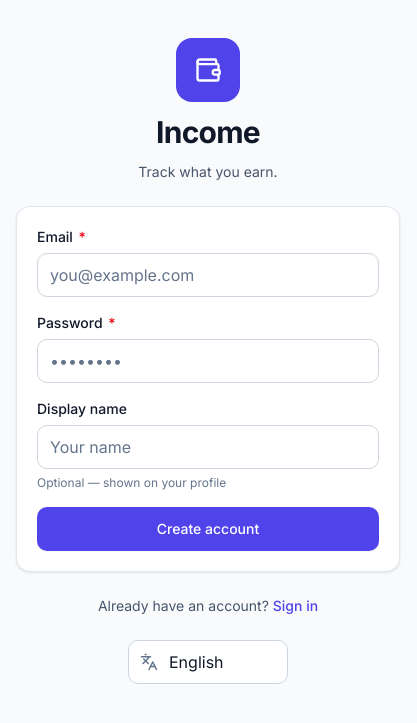
SignUpPage › validates email and password
In the field labelled "Email *": x=208, y=275 [37,253,379,297], type "bad"
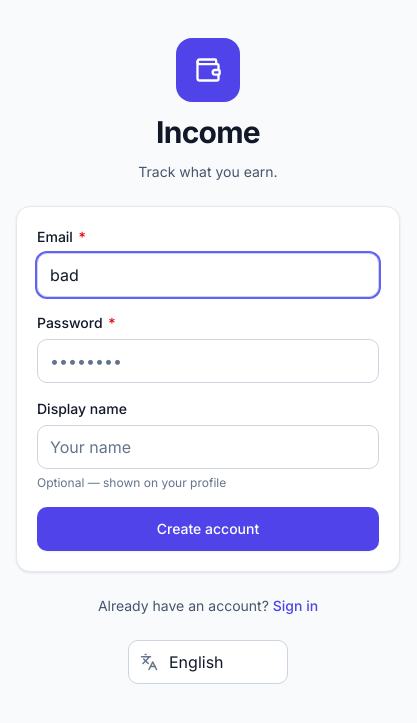
In the password field labelled "Password *": x=208, y=361 [37,339,379,383], type "123"
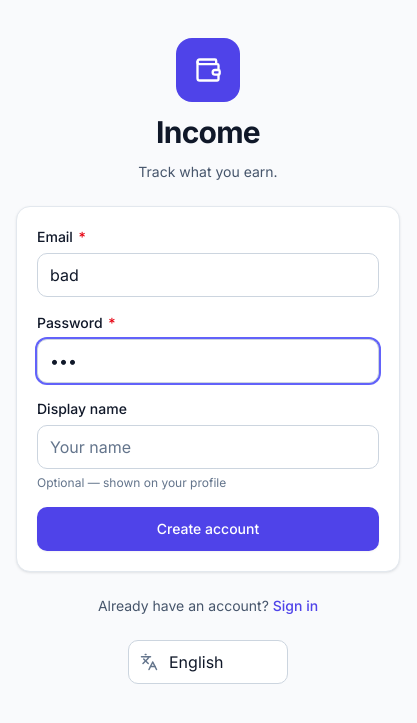
Click the button "Create account": x=208, y=529 [37,507,379,551]
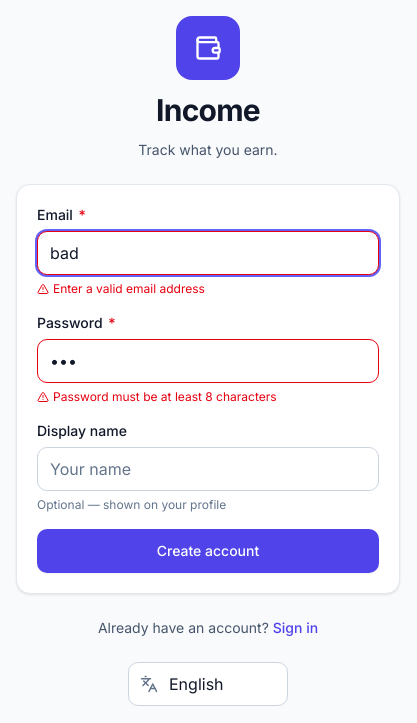
expect the text "Enter a valid email address" is shown: met, box [37,281,205,296]
expect the text "Password must be at least 8 characters" is shown: met, box [37,389,277,404]
